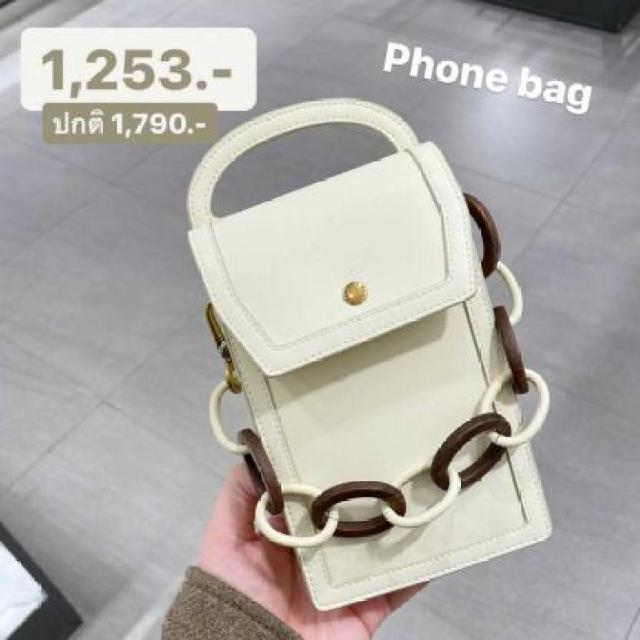Bag: (121, 47, 621, 640)
